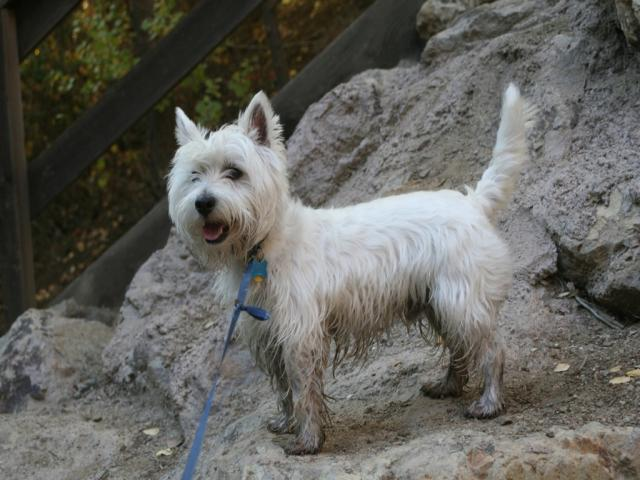Dog: (163, 78, 539, 455)
